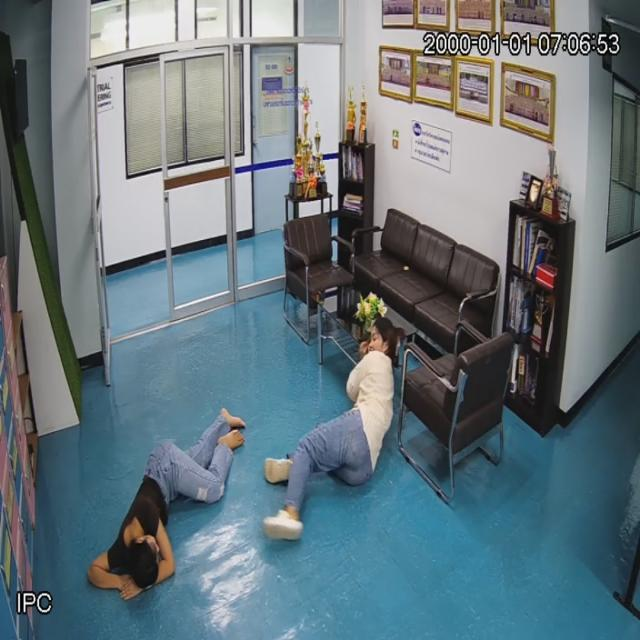fall: (87, 416, 234, 593), (274, 319, 399, 522)
